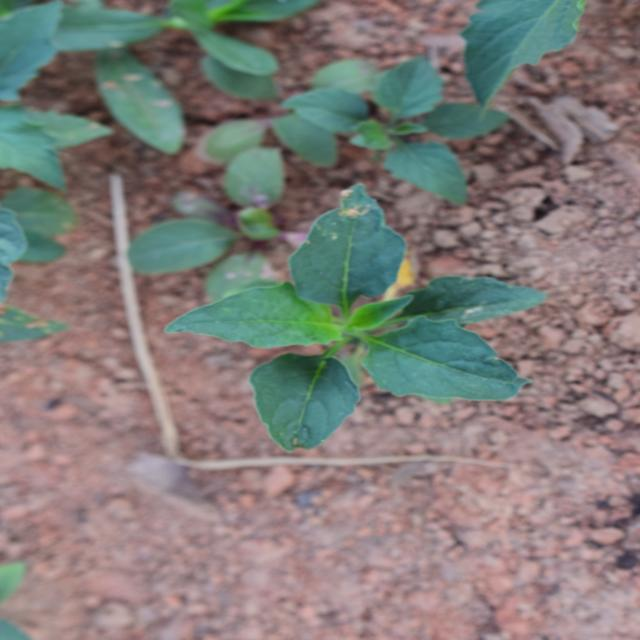Black_nightshade: (197, 182, 426, 550)
